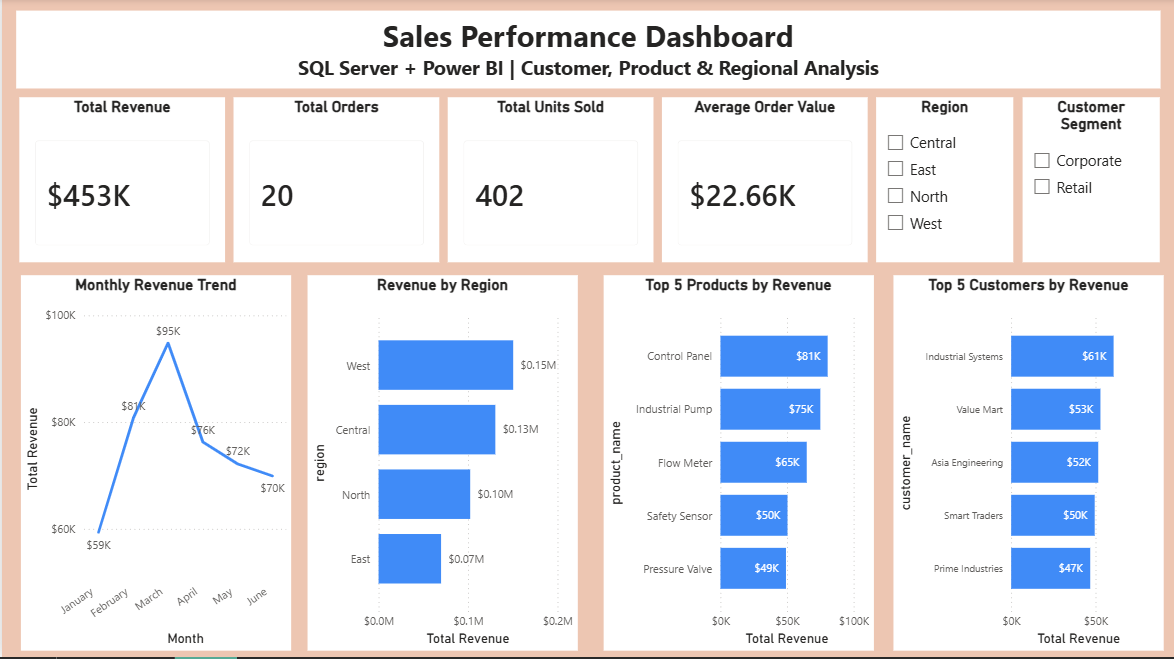

What the dashboard file says about the page in this screenshot:
{"tool":"powerbi","page":{"name":"Page 1","canvas":[1280,720],"ordinal":0},"visuals":[{"type":"cardVisual","title":"Total Revenue","fields":{"Data":["order_items.Total Revenue"]},"box":[18.9,108.4,225,180],"z":0},{"type":"cardVisual","title":"Total Orders","fields":{"Data":["order_items.Total Orders"]},"box":[253.1,108.4,225,180],"z":1000},{"type":"cardVisual","title":"Total Units Sold","fields":{"Data":["order_items.Total Units Sold"]},"box":[487.3,108.4,225,180],"z":2000},{"type":"cardVisual","title":"Average Order Value","fields":{"Data":["order_items.Average Order Value"]},"box":[721.5,108.4,225,180],"z":3000},{"type":"lineChart","title":"Monthly Revenue Trend","fields":{"Category":["orders.order_date.Variation.Date Hierarchy.Month"],"Y":["order_items.Total Revenue"]},"box":[20,303.1,295,410],"z":4000},{"type":"clusteredBarChart","title":"Revenue by Region","fields":{"Category":["orders.region"],"Y":["order_items.Total Revenue"]},"box":[334.6,303.1,295,410],"z":5000},{"type":"clusteredBarChart","title":"Top 5 Products by Revenue","fields":{"Category":["products.product_name"],"Y":["order_items.Total Revenue"]},"box":[657.9,303.1,295,410],"z":6000},{"type":"clusteredBarChart","title":"Top 5 Customers by Revenue","fields":{"Category":["customers.customer_name"],"Y":["order_items.Total Revenue"]},"box":[973.2,303.1,295,410],"z":7000},{"type":"slicer","title":"Region","fields":{"Values":["customers.region"]},"box":[955.7,108.4,150,180],"z":8000},{"type":"slicer","title":"Customer Segment","fields":{"Values":["customers.customer_segment"]},"box":[1114.9,108.4,150,180],"z":9000},{"type":"textbox","box":[15,13.8,1250,85],"z":10000}]}

Visuals, with their boxes in screenshot pixels (x1, y1, x2, y2), scaled from the page's 1280x720 canvas onto the 1174x659 screenshot:
"Total Revenue" cardVisual: Rect(17, 99, 224, 264)
"Total Orders" cardVisual: Rect(232, 99, 439, 264)
"Total Units Sold" cardVisual: Rect(447, 99, 653, 264)
"Average Order Value" cardVisual: Rect(662, 99, 868, 264)
"Monthly Revenue Trend" lineChart: Rect(18, 277, 289, 653)
"Revenue by Region" clusteredBarChart: Rect(307, 277, 577, 653)
"Top 5 Products by Revenue" clusteredBarChart: Rect(603, 277, 874, 653)
"Top 5 Customers by Revenue" clusteredBarChart: Rect(893, 277, 1163, 653)
"Region" slicer: Rect(877, 99, 1014, 264)
"Customer Segment" slicer: Rect(1023, 99, 1160, 264)
textbox: Rect(14, 13, 1160, 90)
